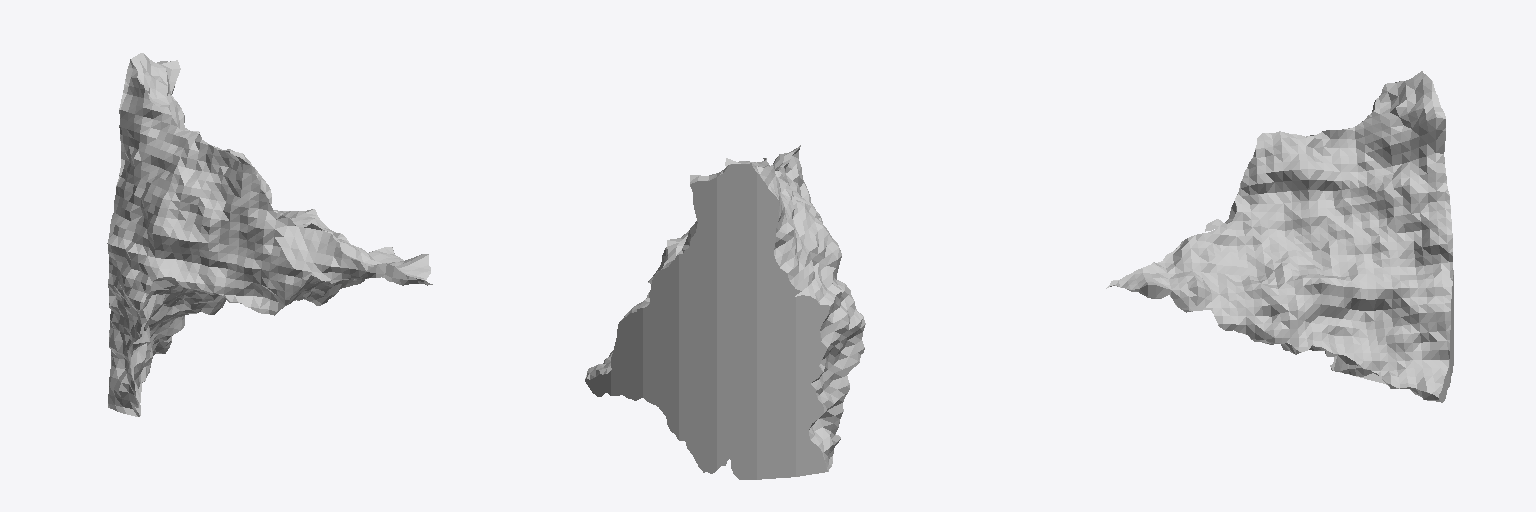
File: Cylinder_shard.005.obj
3 views of the same model, side by side, from view 1: azimuth 30°, elevation 25°; view 2: azimuth 150°, elevation 25°; view 3: azimuth 270°, elevation 25° (orthographic).
Parts seen in each view (by area): view 1: Cylinder_shard.005_Cylinder_shard.017; view 2: Cylinder_shard.005_Cylinder_shard.017; view 3: Cylinder_shard.005_Cylinder_shard.017.
Part boxes in pixels (left/top/right/bottom): Cylinder_shard.005_Cylinder_shard.017: left=107, top=53, right=432, bottom=416; Cylinder_shard.005_Cylinder_shard.017: left=585, top=145, right=865, bottom=479; Cylinder_shard.005_Cylinder_shard.017: left=1106, top=71, right=1453, bottom=402.
Bounding box in the file's own units: 1.24 × 1.74 × 1.73.